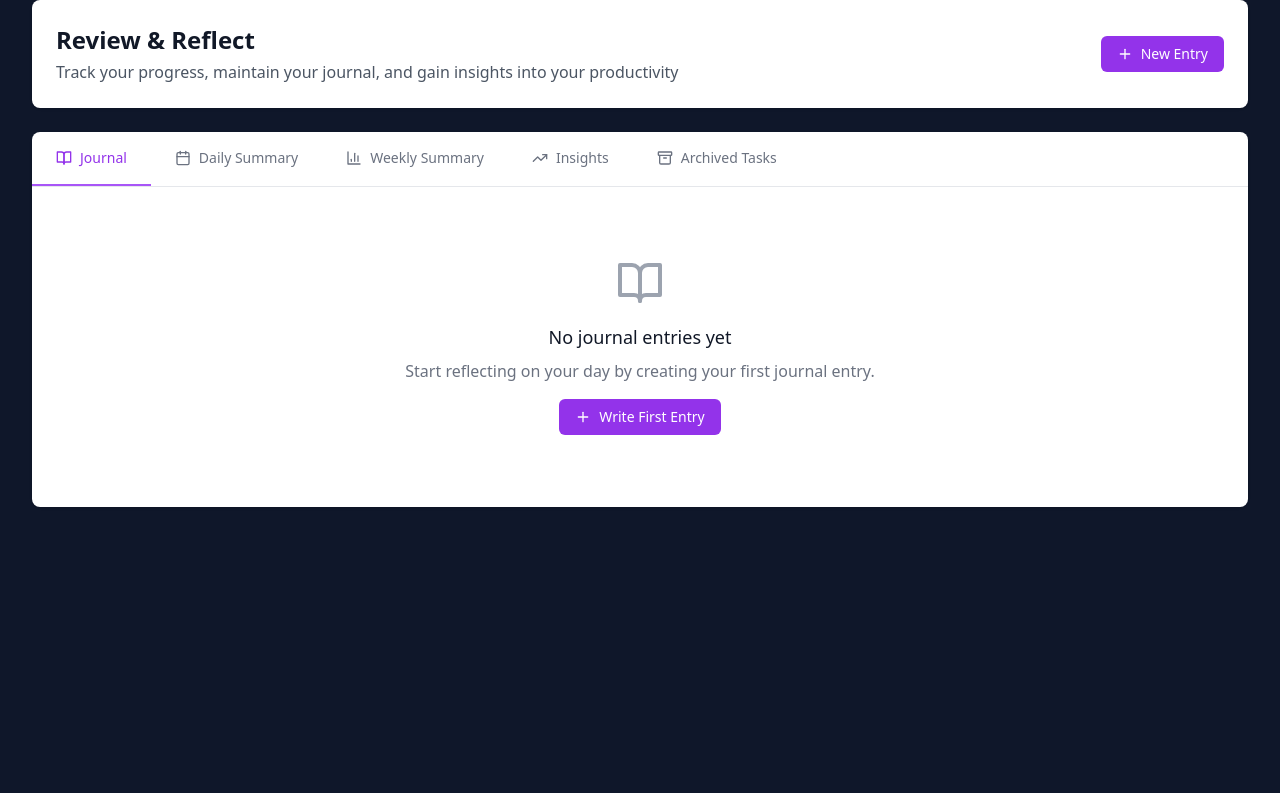
Test: TaskReview › Journal Tab › should open journal editor when clicking New Entry
The image size is (1280, 793).
What coordinates should you click on to do the following:
click the button "New Entry"
I would click on:
 (1162, 54)
Its box is [1101,36,1224,72].
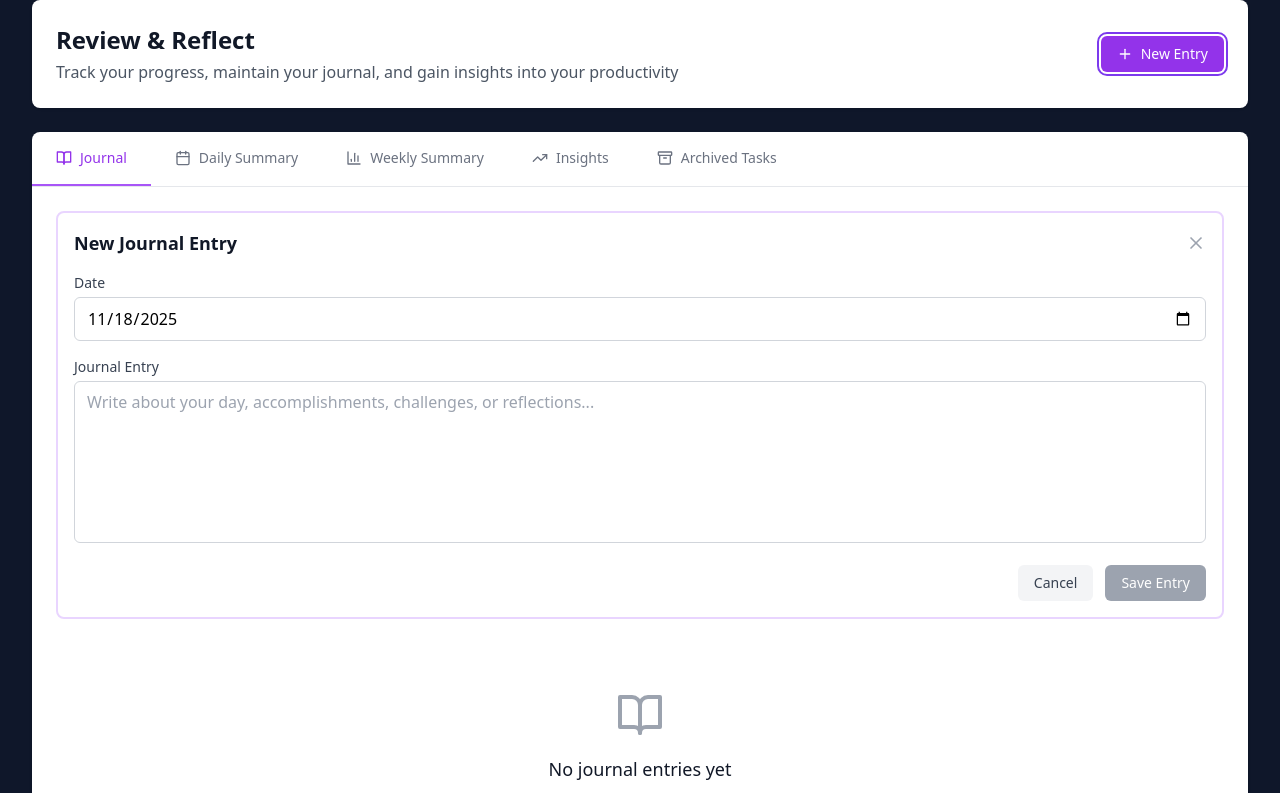
Now the text box labelled "Journal Entry" is shown, box [74,381,1206,543]
